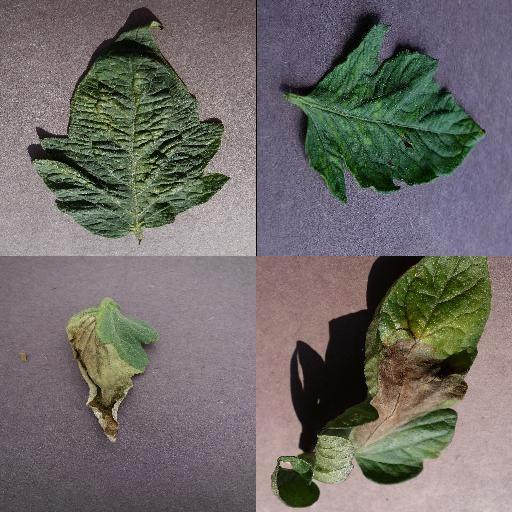Late Blight: (312, 256, 494, 485), (65, 304, 159, 444)
Mosaic Virus: (303, 23, 487, 205)
Spider Mites: (33, 18, 229, 238)
